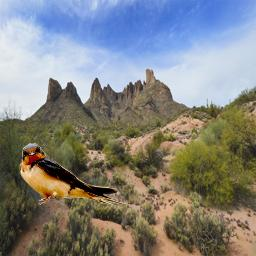Swallow: (18, 143, 130, 212)
